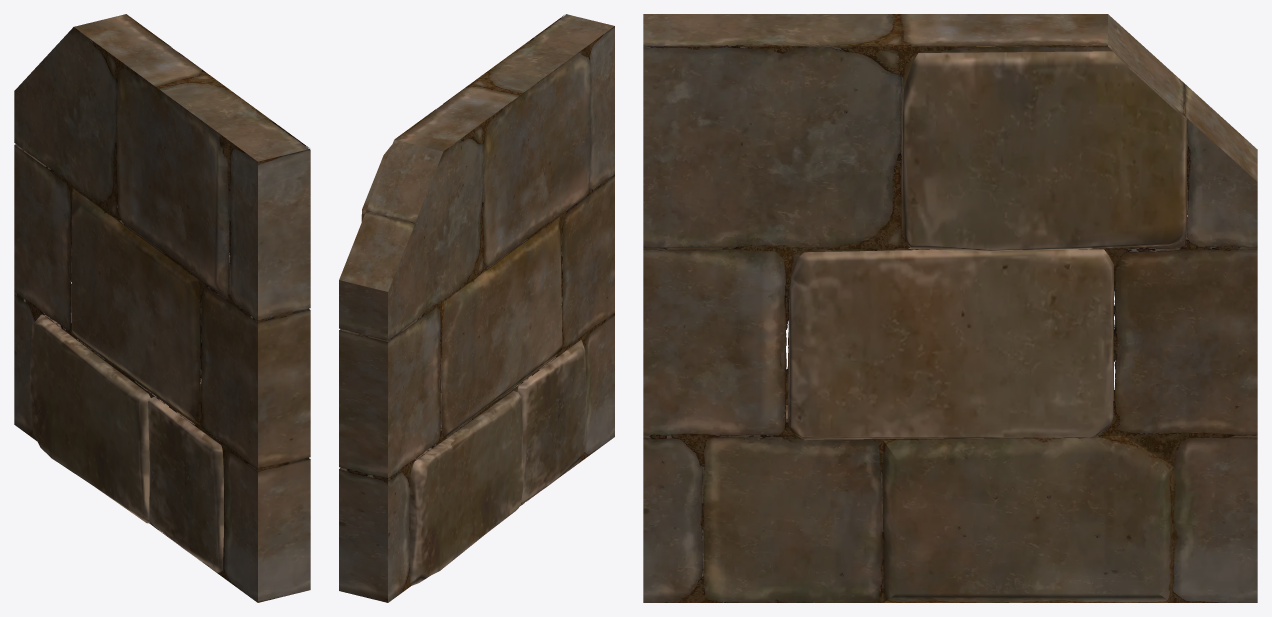
The picture shows the model from 3 angles, left to right: view 1: azimuth 30°, elevation 25°; view 2: azimuth 150°, elevation 25°; view 3: azimuth 270°, elevation 25°; orthographic projection. The views are drawn at different scales.
Parts seen in each view (by area): view 1: SM_Vault_4m_Wall_Hole_03_LOD0; view 2: SM_Vault_4m_Wall_Hole_03_LOD0; view 3: SM_Vault_4m_Wall_Hole_03_LOD0.
Part boxes in pixels (x1,y1,x2,y2): SM_Vault_4m_Wall_Hole_03_LOD0: [14, 14, 310, 602]; SM_Vault_4m_Wall_Hole_03_LOD0: [339, 14, 614, 602]; SM_Vault_4m_Wall_Hole_03_LOD0: [643, 14, 1257, 602].
Size of the model in its own units: 0.7121 by 4 by 4.
Materials: 2 (2 with a texture image).
